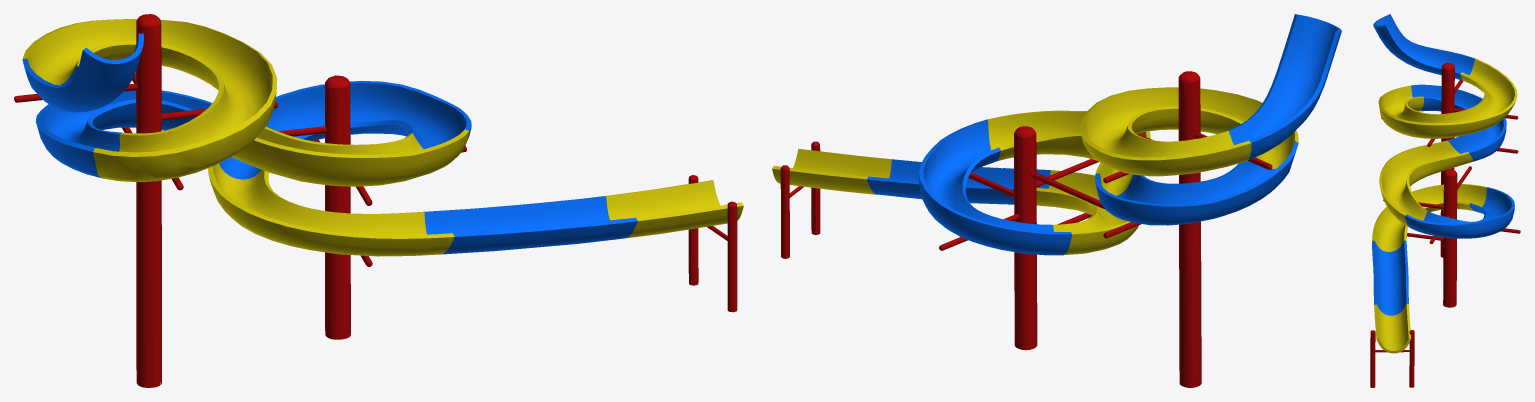
File: slide.glb
3 renders of one model, left to right at view 1: azimuth 30°, elevation 25°; view 2: azimuth 150°, elevation 25°; view 3: azimuth 270°, elevation 25°, orthographic. The views are drawn at different scales.
Visible parts, largest first — view 1: a001; view 2: a001; view 3: a001.
Part boxes in pixels (x1,y1,x2,y2): a001: (14, 14, 743, 387); a001: (772, 14, 1341, 387); a001: (1370, 14, 1520, 387).
Bounding box in the file's own units: 37.97 × 22.86 × 14.55.
